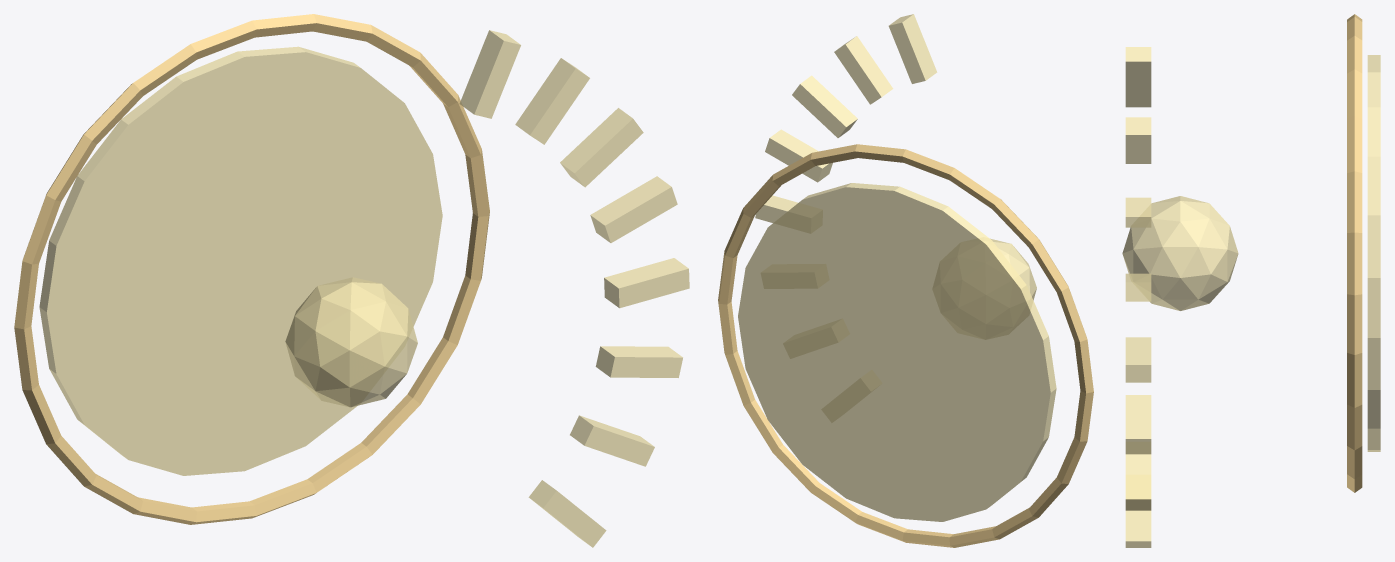
Rendered from 01_class_special_attack_vfx.glb.
The picture shows the model from 3 angles, left to right: view 1: azimuth 30°, elevation 25°; view 2: azimuth 150°, elevation 25°; view 3: azimuth 270°, elevation 25°; orthographic projection. The views are drawn at different scales.
Parts seen in each view (by area): view 1: ability_cast_disc, ability_outer_ring, class_energy_core, attack_flow_arc_seg_7, attack_flow_arc_seg_5, attack_flow_arc_seg_6, attack_flow_arc_seg_4, attack_flow_arc_seg_3, attack_flow_arc_seg_2, attack_flow_arc_seg_1, attack_flow_arc_seg_0; view 2: ability_cast_disc, ability_outer_ring, attack_flow_arc_seg_7, attack_flow_arc_seg_5, attack_flow_arc_seg_6, attack_flow_arc_seg_4, class_energy_core, attack_flow_arc_seg_3; view 3: class_energy_core, ability_outer_ring, ability_cast_disc, attack_flow_arc_seg_7, attack_flow_arc_seg_2, attack_flow_arc_seg_1, attack_flow_arc_seg_6, attack_flow_arc_seg_3, attack_flow_arc_seg_0, attack_flow_arc_seg_5, attack_flow_arc_seg_4.
Boxes of the visible parts, box(x1,y1,x2,y2) form: ability_cast_disc: box(39, 46, 442, 475); ability_outer_ring: box(14, 14, 489, 524); class_energy_core: box(285, 277, 417, 407); attack_flow_arc_seg_7: box(459, 30, 520, 118); attack_flow_arc_seg_5: box(560, 108, 643, 187); attack_flow_arc_seg_6: box(515, 58, 589, 144); attack_flow_arc_seg_4: box(590, 176, 677, 242); attack_flow_arc_seg_3: box(604, 258, 689, 308); attack_flow_arc_seg_2: box(595, 346, 682, 377); attack_flow_arc_seg_1: box(570, 415, 654, 466); attack_flow_arc_seg_0: box(528, 480, 606, 547); ability_cast_disc: box(738, 183, 1056, 521); ability_outer_ring: box(718, 144, 1093, 547); attack_flow_arc_seg_7: box(888, 14, 937, 83); attack_flow_arc_seg_5: box(792, 75, 857, 137); attack_flow_arc_seg_6: box(834, 36, 893, 104); attack_flow_arc_seg_4: box(765, 129, 832, 182); class_energy_core: box(990, 238, 1036, 300); attack_flow_arc_seg_3: box(755, 195, 798, 222); class_energy_core: box(1122, 196, 1238, 310); ability_outer_ring: box(1347, 14, 1362, 492); ability_cast_disc: box(1367, 55, 1380, 451); attack_flow_arc_seg_7: box(1125, 47, 1151, 107); attack_flow_arc_seg_2: box(1125, 395, 1151, 454); attack_flow_arc_seg_1: box(1125, 454, 1151, 510); attack_flow_arc_seg_6: box(1125, 117, 1151, 163); attack_flow_arc_seg_3: box(1125, 337, 1151, 382); attack_flow_arc_seg_0: box(1125, 510, 1151, 547); attack_flow_arc_seg_5: box(1125, 197, 1151, 227); attack_flow_arc_seg_4: box(1125, 273, 1151, 301).
Bounding box in the file's own units: 1.71 × 1.63 × 0.8.
